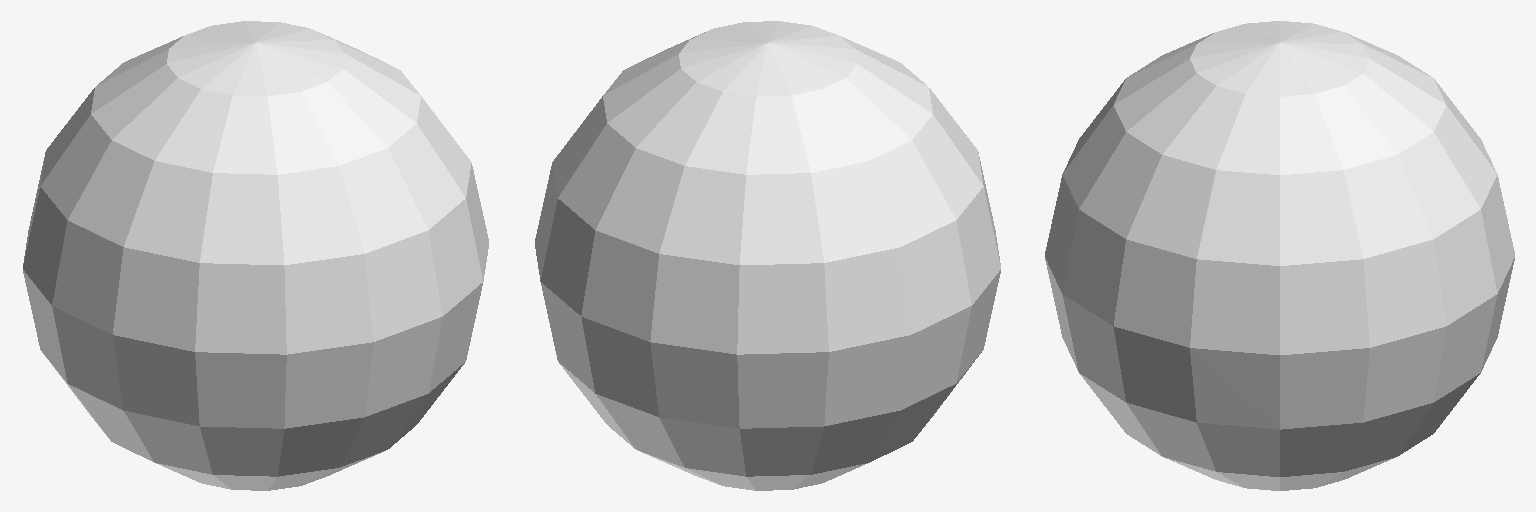
The picture shows the model from 3 angles: view 1: azimuth 30°, elevation 25°; view 2: azimuth 150°, elevation 25°; view 3: azimuth 270°, elevation 25°; orthographic projection.
Parts seen in each view (by area): view 1: poolball4; view 2: poolball4; view 3: poolball4.
Part boxes in pixels (bbox=[...]): poolball4: bbox=[23, 21, 488, 490]; poolball4: bbox=[535, 21, 1000, 490]; poolball4: bbox=[1045, 21, 1514, 490].
Size of the model in its own units: 1.95 by 1.95 by 1.95.
1 materials, 1 textured.